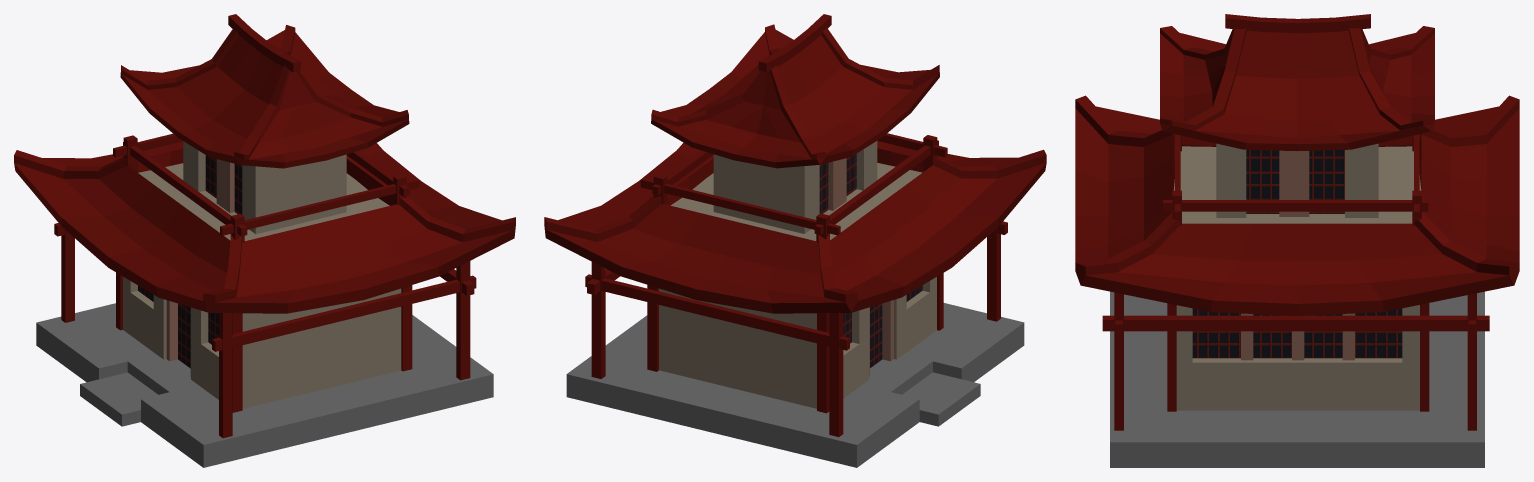
The model's file is m_house2.fbx.
3 views of the same model, side by side, from view 1: azimuth 30°, elevation 25°; view 2: azimuth 150°, elevation 25°; view 3: azimuth 270°, elevation 25° (orthographic). The views are drawn at different scales.
Visible parts, largest first — view 1: House2; view 2: House2; view 3: House2.
Part boxes in pixels (left/top/right/bottom): House2: left=14, top=14, right=515, bottom=467; House2: left=544, top=14, right=1046, bottom=467; House2: left=1075, top=14, right=1519, bottom=467.
Bounding box in the file's own units: 207 × 205 × 221.
